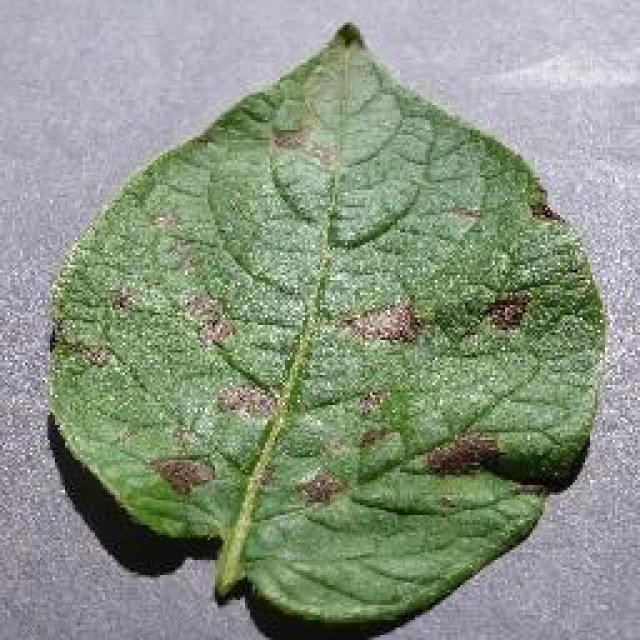early_blight: (42, 18, 610, 638)
